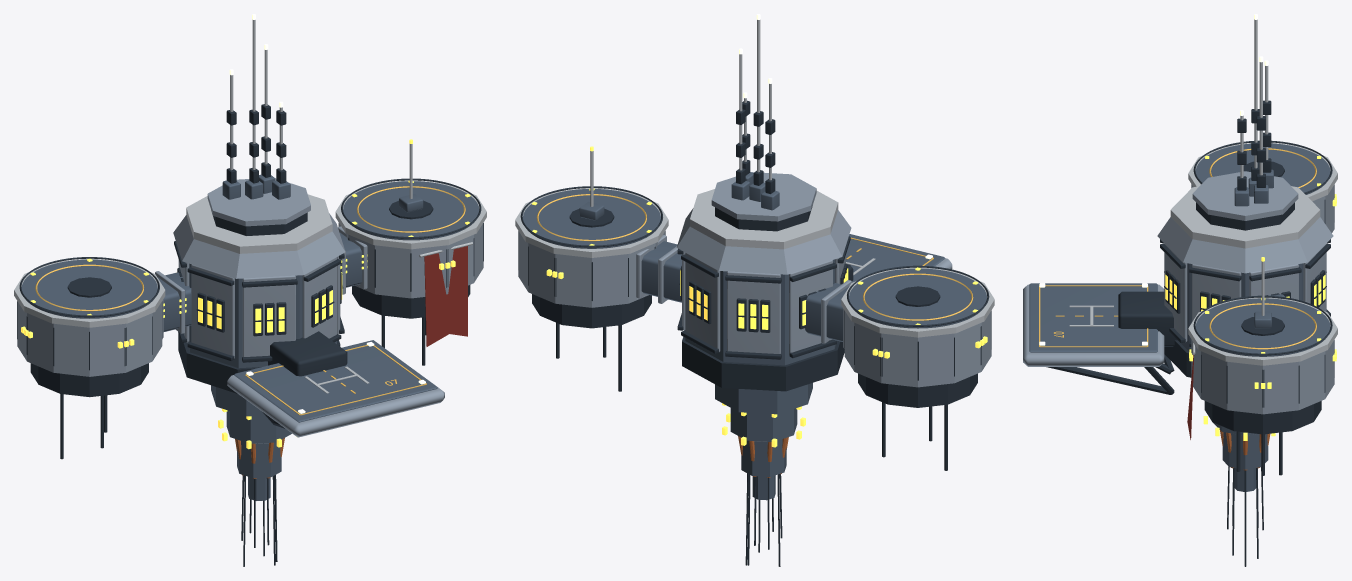
The model's file is station.glb.
3 renders of one model, left to right at view 1: azimuth 30°, elevation 25°; view 2: azimuth 150°, elevation 25°; view 3: azimuth 270°, elevation 25°, orthographic. The views are drawn at different scales.
Parts seen in each view (by area): view 1: Dock | inset deck, Pod | armored drum, Pod | recessed deck, Pod | recessed deck.001, Hub | shoulder armor, Pod | armored drum.001, Hub | crown cap, Banner | hanging pennant, Dock | slab, Hub | rooftop armor, Hub | face armor 05, Hub | face armor 04 (+17 smaller); view 2: Pod | armored drum, Pod | armored drum.001, Pod | recessed deck, Pod | recessed deck.001, Hub | shoulder armor, Hub | lower collar, Hub | crown cap, Hub | face armor 02, Hub | rooftop armor, Pod | lower machinery.001, Pod | lower machinery, Dock | inset deck (+14 smaller); view 3: Dock | inset deck, Pod | armored drum.001, Pod | recessed deck.001, Hub | shoulder armor, Hub | crown cap, Pod | recessed deck, Hub | rooftop armor, Dock | slab, Pod | lower machinery.001, Dock | neck, Pod | upper rim.001, Hub | face armor 07 (+16 smaller).
Part boxes in pixels (x1,y1,x2,y2): Dock | inset deck: (234, 340, 438, 422); Pod | armored drum: (17, 301, 162, 376); Pod | recessed deck: (21, 259, 157, 318); Pod | recessed deck.001: (343, 181, 479, 240); Hub | shoulder armor: (173, 213, 345, 278); Pod | armored drum.001: (339, 223, 483, 298); Hub | crown cap: (186, 194, 332, 253); Banner | hanging pennant: (424, 246, 467, 346); Dock | slab: (227, 375, 444, 437); Hub | rooftop armor: (207, 178, 310, 226); Hub | face armor 05: (242, 275, 295, 356); Hub | face armor 04: (191, 264, 234, 358); Pod | armored drum: (844, 311, 991, 387); Pod | armored drum.001: (518, 231, 665, 307); Pod | recessed deck: (849, 268, 986, 328); Pod | recessed deck.001: (523, 189, 660, 248); Hub | shoulder armor: (676, 208, 851, 274); Hub | lower collar: (682, 337, 844, 391); Hub | crown cap: (690, 189, 838, 249); Hub | face armor 02: (727, 271, 780, 353); Hub | rooftop armor: (711, 172, 816, 221); Pod | lower machinery.001: (532, 294, 651, 328); Pod | lower machinery: (858, 373, 977, 407); Dock | inset deck: (846, 234, 945, 282); Dock | inset deck: (1029, 283, 1157, 352); Pod | armored drum.001: (1191, 339, 1334, 414); Pod | recessed deck.001: (1195, 298, 1330, 356); Hub | shoulder armor: (1157, 217, 1333, 273); Hub | crown cap: (1170, 186, 1320, 248); Pod | recessed deck: (1195, 143, 1330, 194); Hub | rooftop armor: (1192, 171, 1298, 220); Dock | slab: (1023, 284, 1164, 366); Pod | lower machinery.001: (1204, 401, 1321, 434); Dock | neck: (1118, 291, 1177, 346); Pod | upper rim.001: (1188, 297, 1337, 365); Hub | face armor 07: (1192, 264, 1241, 321).
Bounding box in the file's own units: 14.64 × 17.02 × 8.92.
